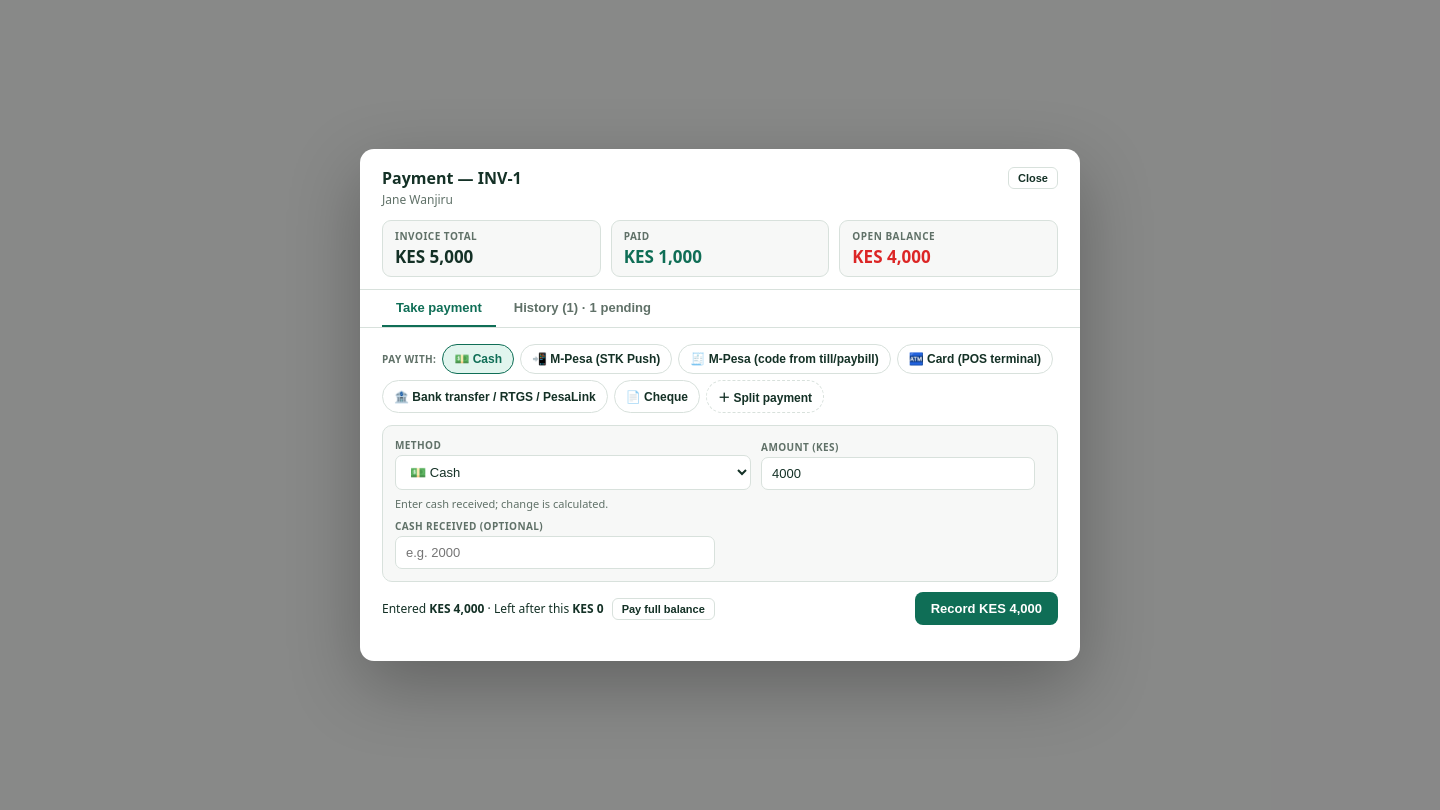
it: PaymentModal receipts and permissions › front desk cannot cancel a pending cheque (finance clears or bounces it)
This screenshot has width=1440, height=810.
Click the button "History (1) · 1 pending": (582,308) top-left (500, 290), bottom-right (665, 327)
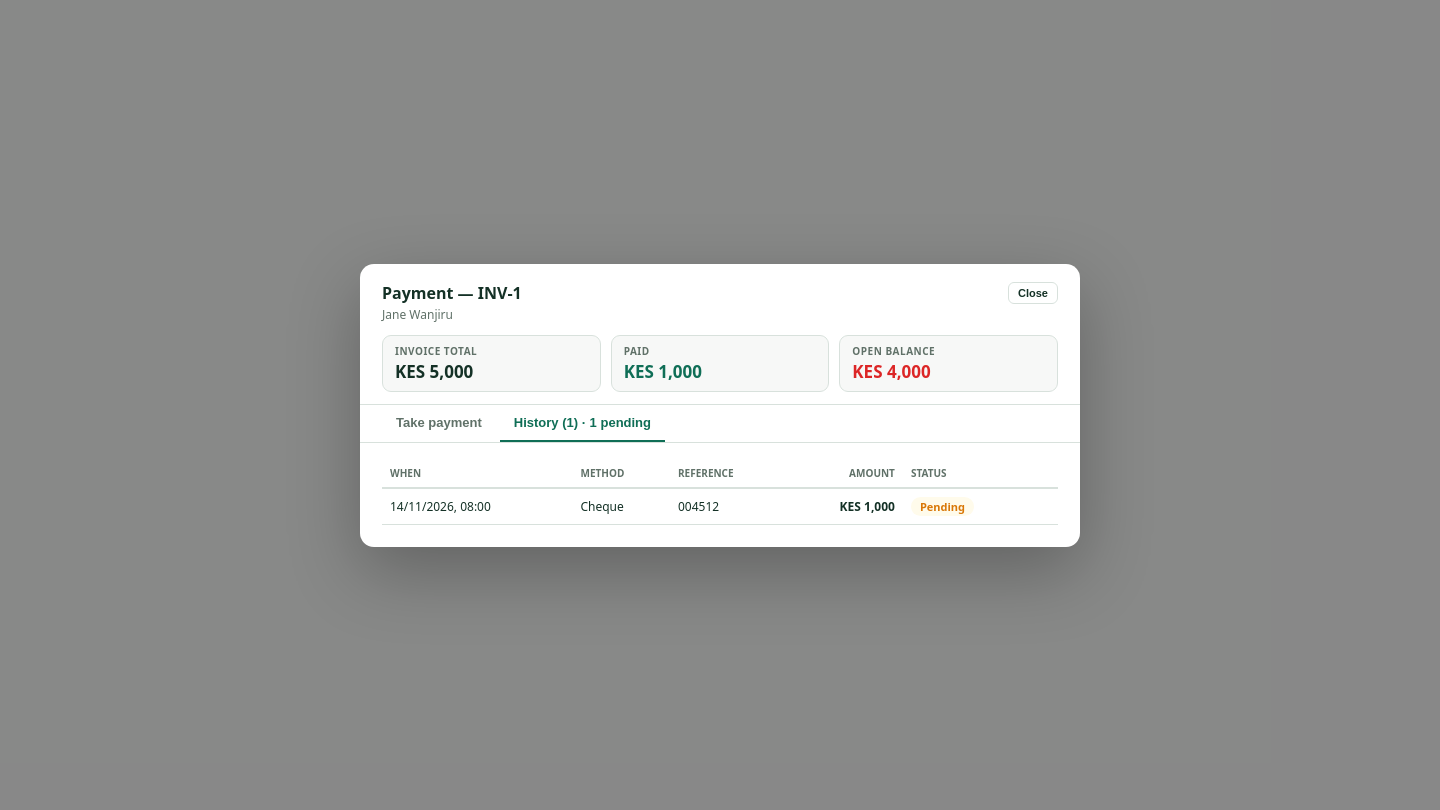
Expected: the text "004512" is shown, top-left (670, 488), bottom-right (787, 524)
